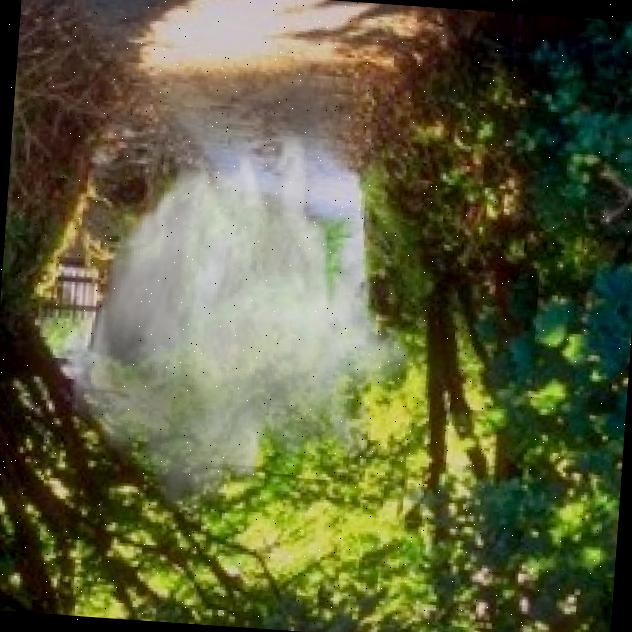smoke: (54, 110, 426, 536)
